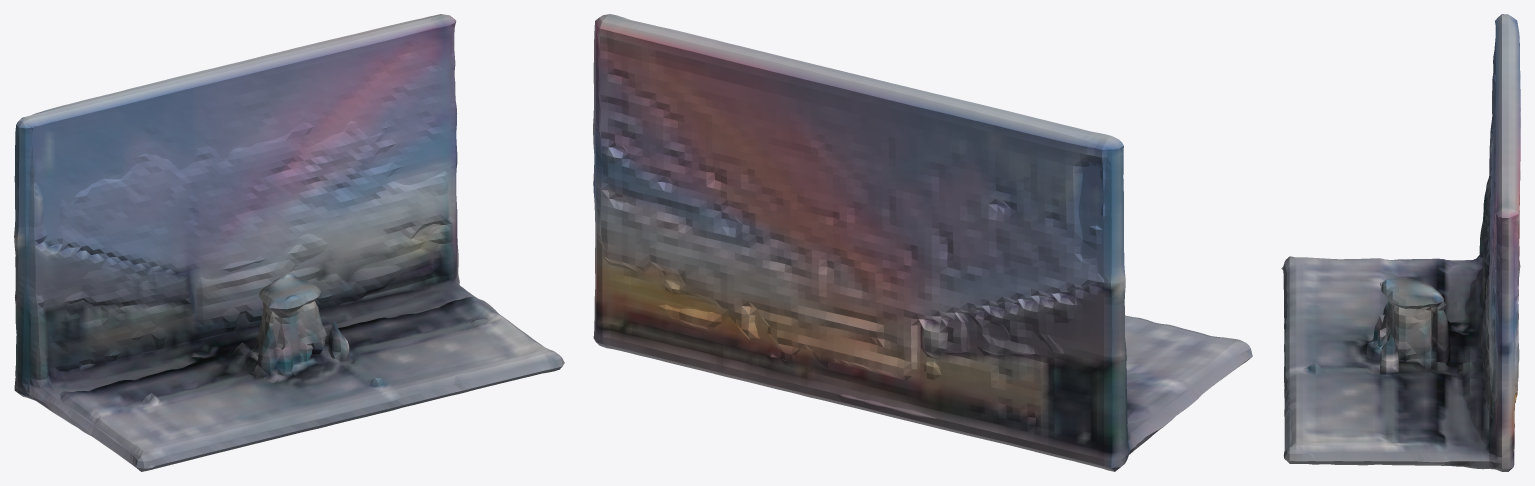
The model's file is beiyangyuan-datong-center-download.glb.
3 renders of one model, left to right at view 1: azimuth 30°, elevation 25°; view 2: azimuth 150°, elevation 25°; view 3: azimuth 270°, elevation 25°, orthographic. The views are drawn at different scales.
Visible parts, largest first — view 1: world; view 2: world; view 3: world.
Boxes of the visible parts, x1,y1,x2,y2 form: world: [14, 14, 564, 471]; world: [593, 14, 1252, 471]; world: [1281, 14, 1520, 471].
Size of the model in its own units: 1.03 by 0.6153 by 0.5098.
